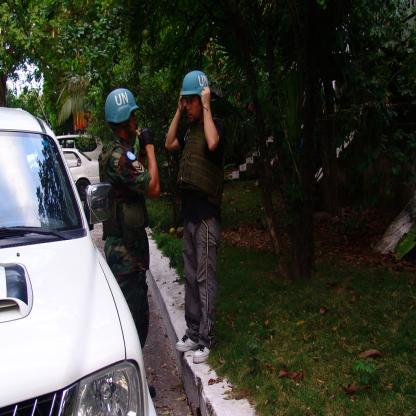Helmet: (100, 86, 138, 142), (180, 68, 211, 95)
